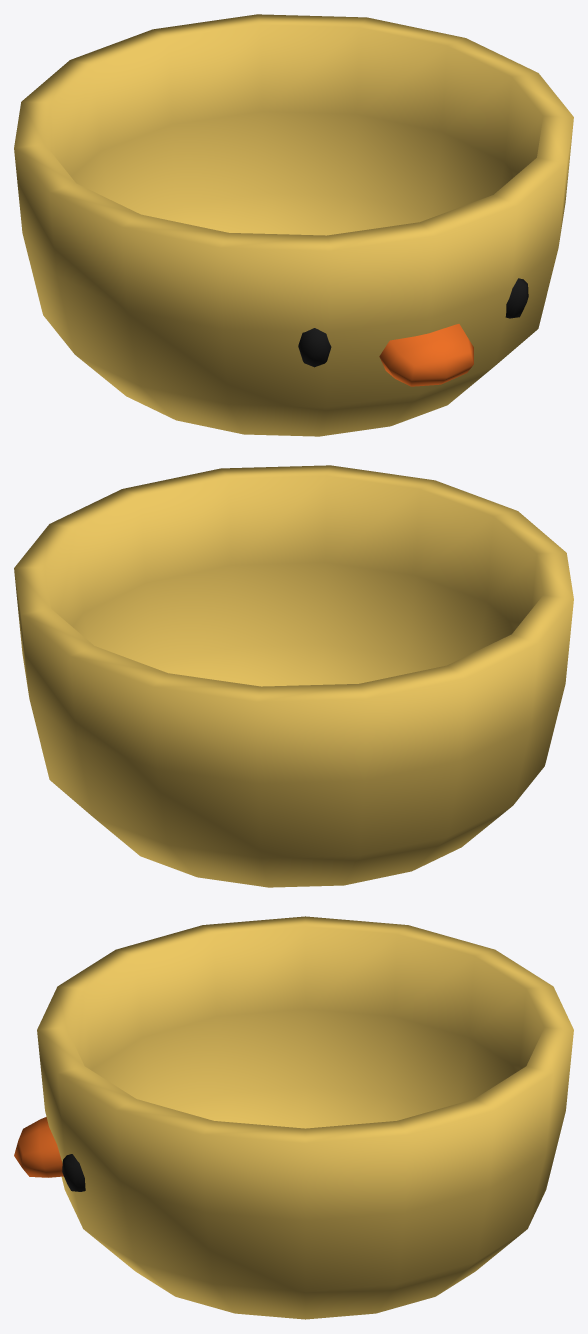
File: bowl_big.fbx
3 renders of one model, top to bottom at view 1: azimuth 30°, elevation 25°; view 2: azimuth 150°, elevation 25°; view 3: azimuth 270°, elevation 25°, orthographic. The views are drawn at different scales.
Parts seen in each view (by area): view 1: bowl_big; view 2: bowl_big; view 3: bowl_big.
Part boxes in pixels (x1,y1,x2,y2): bowl_big: (14, 14, 573, 436); bowl_big: (14, 465, 573, 887); bowl_big: (14, 916, 573, 1319).
Size of the model in its own units: 0.1818 by 0.0914 by 0.1896.
